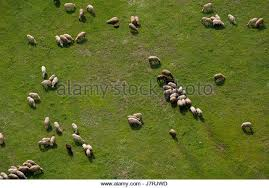sheep: (69, 134, 87, 144), (127, 117, 143, 128), (24, 32, 37, 44), (53, 121, 64, 135), (25, 95, 36, 109), (42, 116, 51, 132), (201, 16, 213, 28), (213, 71, 226, 82), (75, 30, 86, 43), (146, 53, 160, 63), (128, 22, 140, 33), (201, 2, 213, 13), (162, 68, 174, 79), (104, 16, 118, 25), (30, 165, 44, 174), (50, 77, 60, 89), (188, 104, 197, 117), (241, 120, 252, 130), (70, 123, 80, 134), (227, 13, 237, 24), (41, 65, 48, 80), (64, 1, 77, 9), (77, 8, 84, 21), (16, 164, 29, 171), (169, 127, 177, 137), (85, 149, 93, 158), (176, 98, 183, 108), (196, 106, 203, 116), (213, 19, 224, 25), (135, 14, 141, 25), (168, 81, 177, 88), (63, 143, 72, 149)
